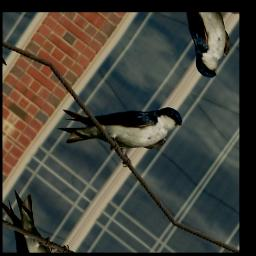Swallow: (48, 51, 187, 196)
